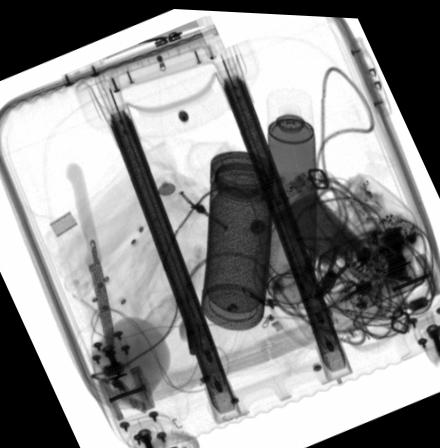Knife: (65, 162, 113, 353)
Powerbank: (261, 163, 367, 269)
Scissors: (310, 207, 373, 298)
Sprayer: (264, 83, 314, 301)
